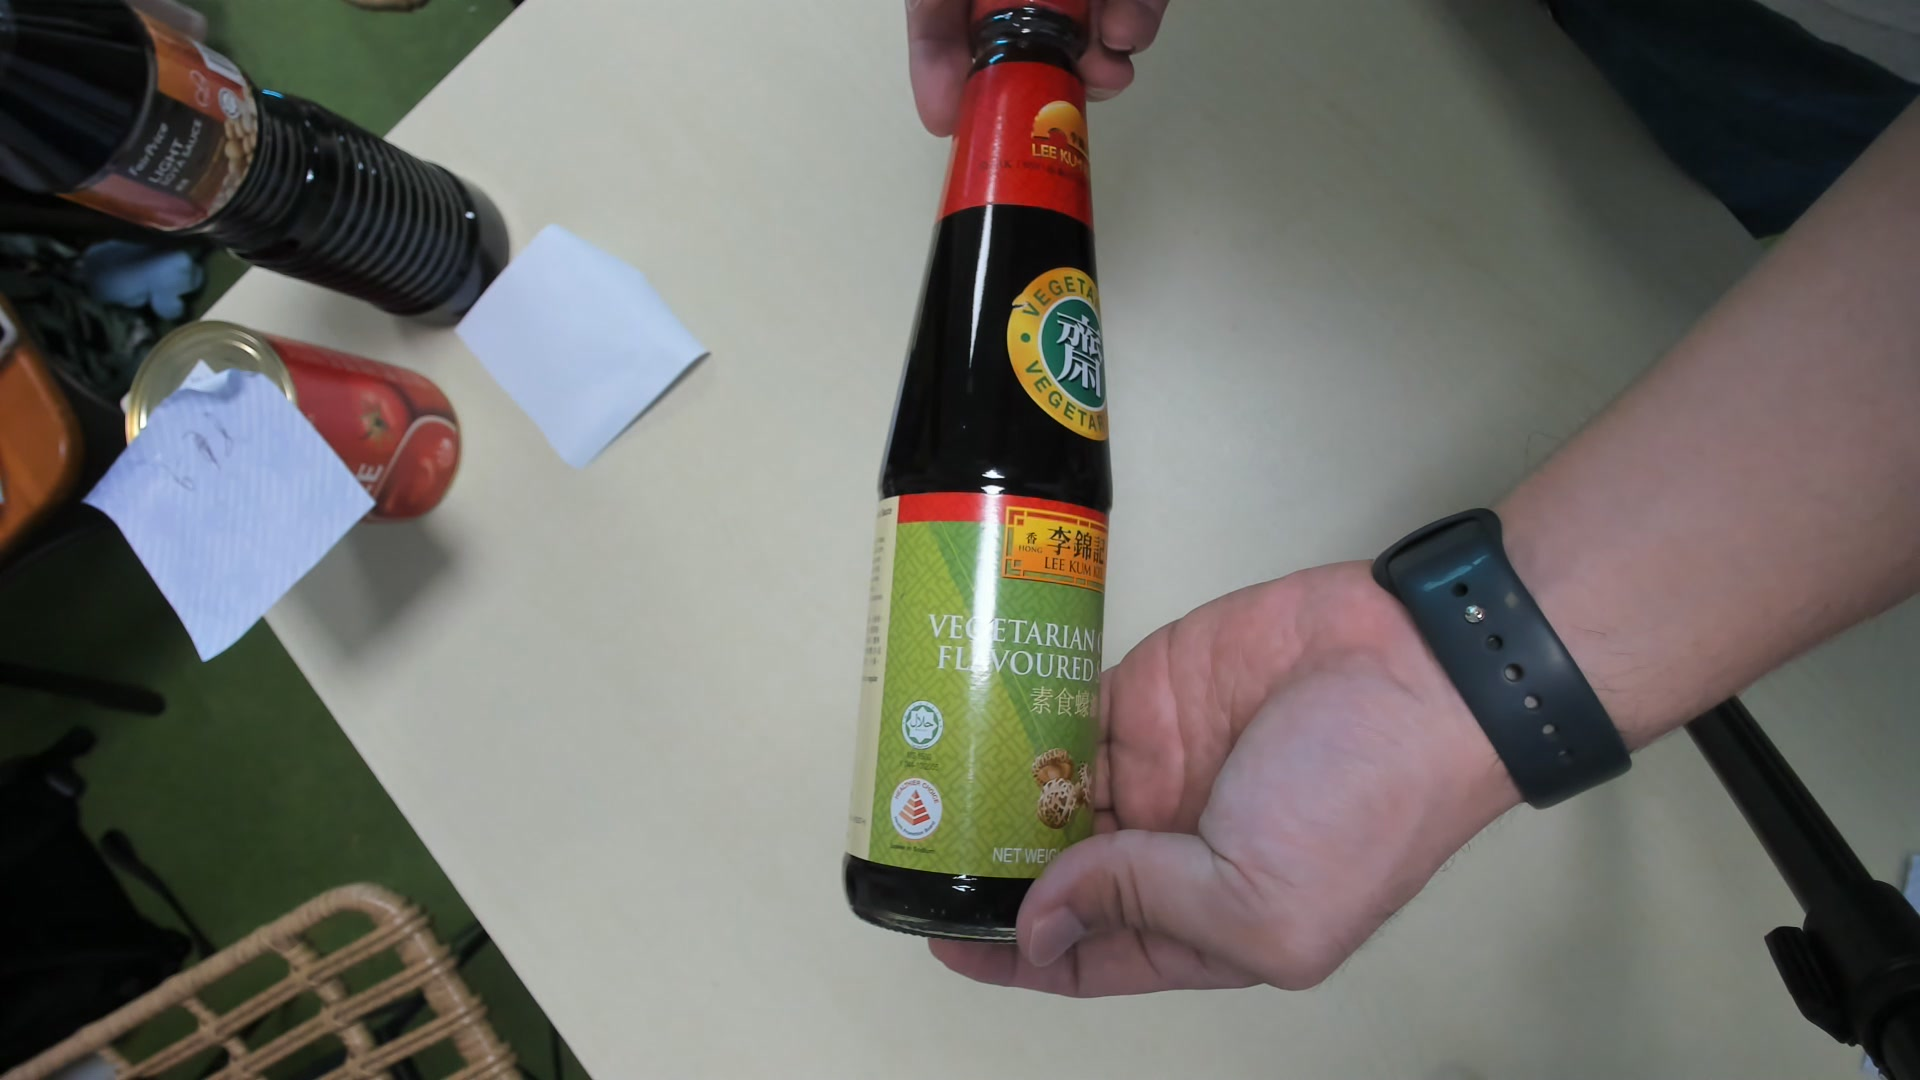OtherSauceDressingSoupbasePaste_500-599g_Halal_Healthy: (837, 9, 1120, 926)
